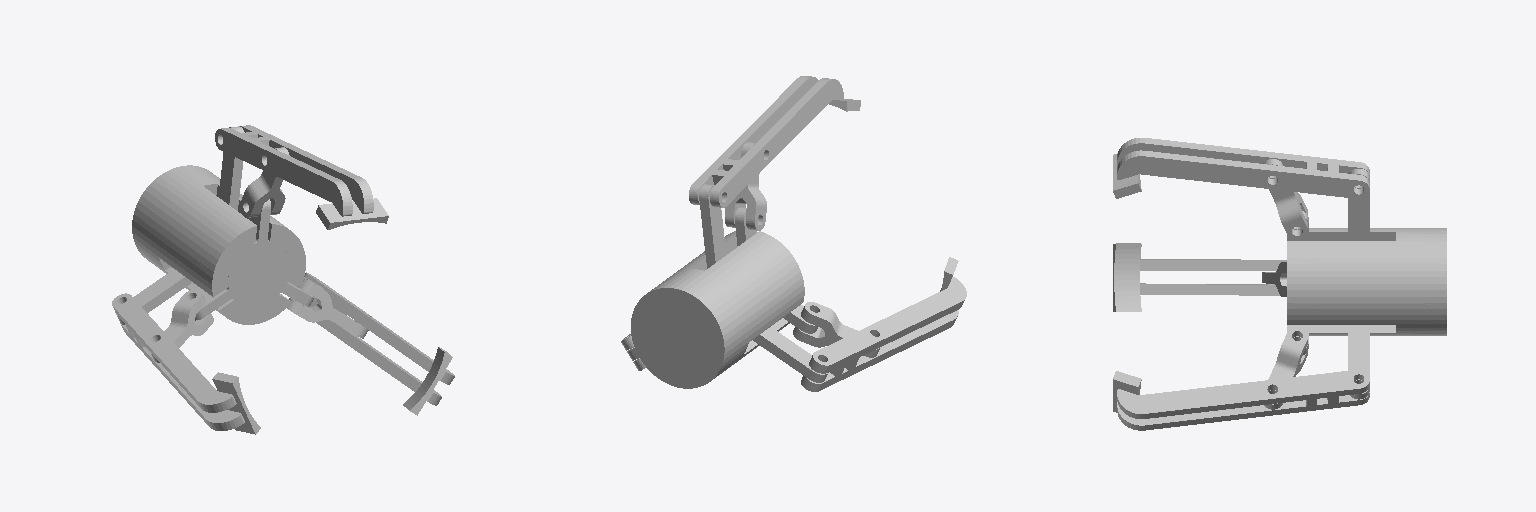
The picture shows the model from 3 angles: view 1: azimuth 30°, elevation 25°; view 2: azimuth 150°, elevation 25°; view 3: azimuth 270°, elevation 25°; orthographic projection.
Visible parts, largest first — view 1: Grippler; view 2: Grippler; view 3: Grippler.
Boxes of the visible parts, box(x1,y1,x2,y2) form: Grippler: box(112, 125, 454, 434); Grippler: box(621, 76, 966, 391); Grippler: box(1113, 138, 1446, 430).
Size of the model in its own units: 85.17 by 79 by 97.84.